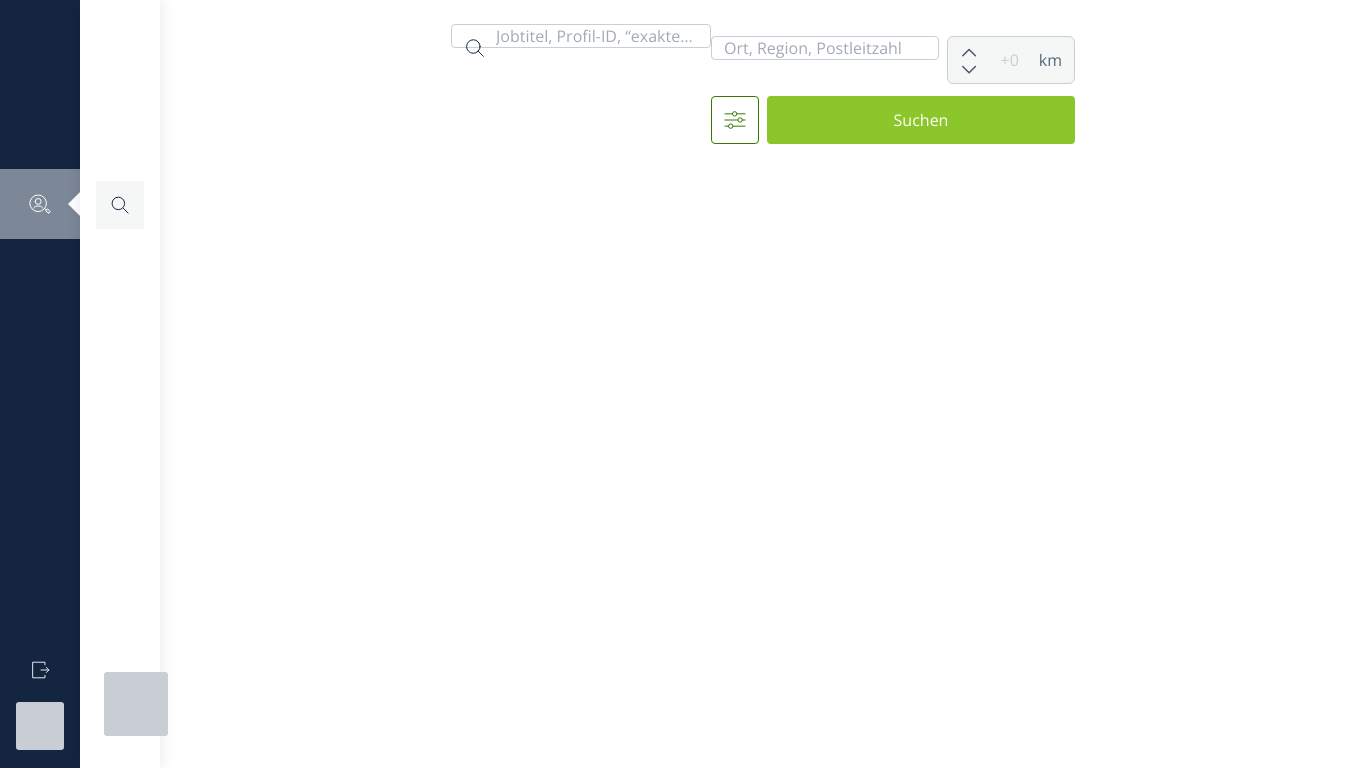
ApplicantSearchPage › should show extended search bar when clicking initial search bar
Click the element with test id "ApplicantSearchField" showing "km Suchen".
click(475, 48)  # box [451,24,1075,144]
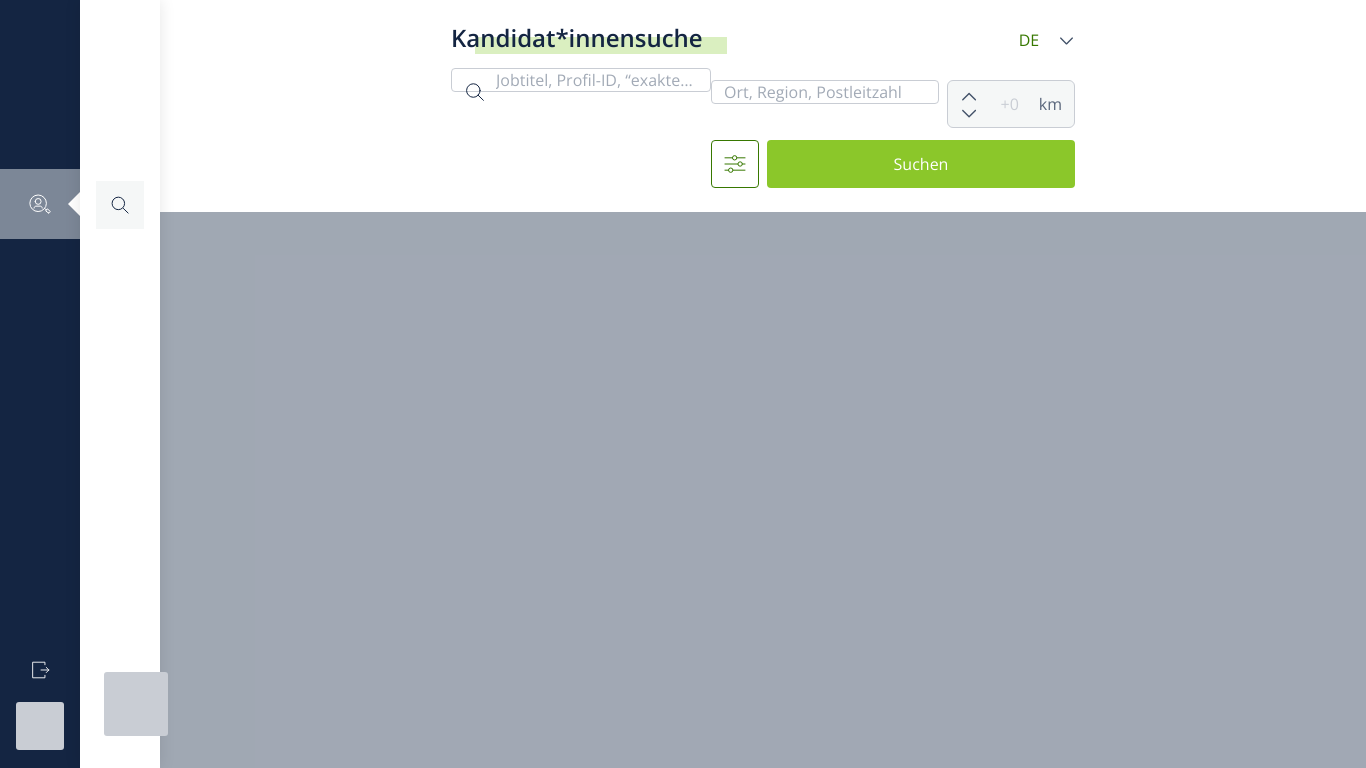
Now the element with test id "ApplicantSearchField Extended" is shown, box [451,24,1075,188]
